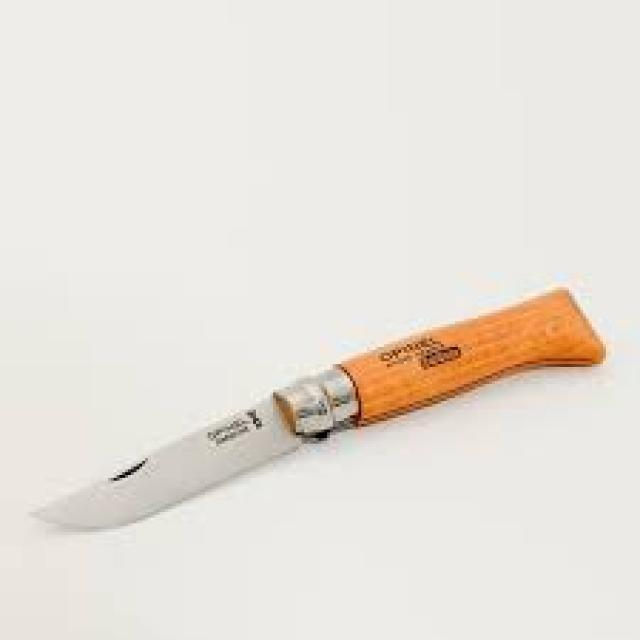knives: (26, 278, 608, 538)
